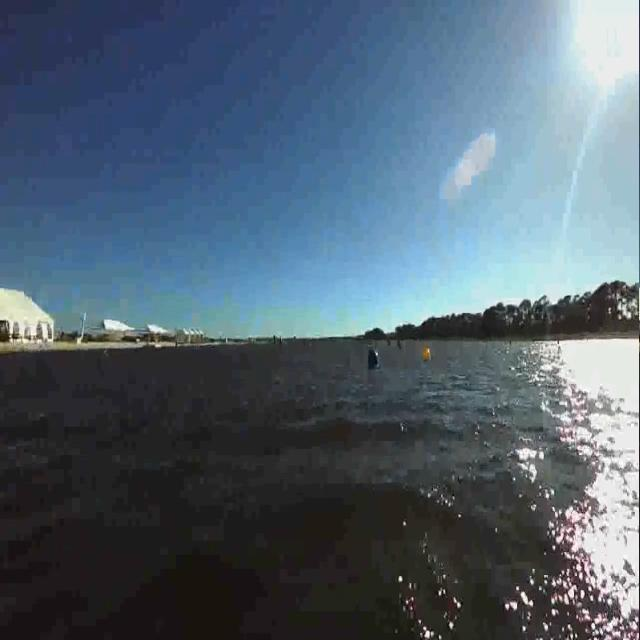blue-buoy: (369, 346, 380, 372)
yellow-buoy: (423, 347, 431, 362)
